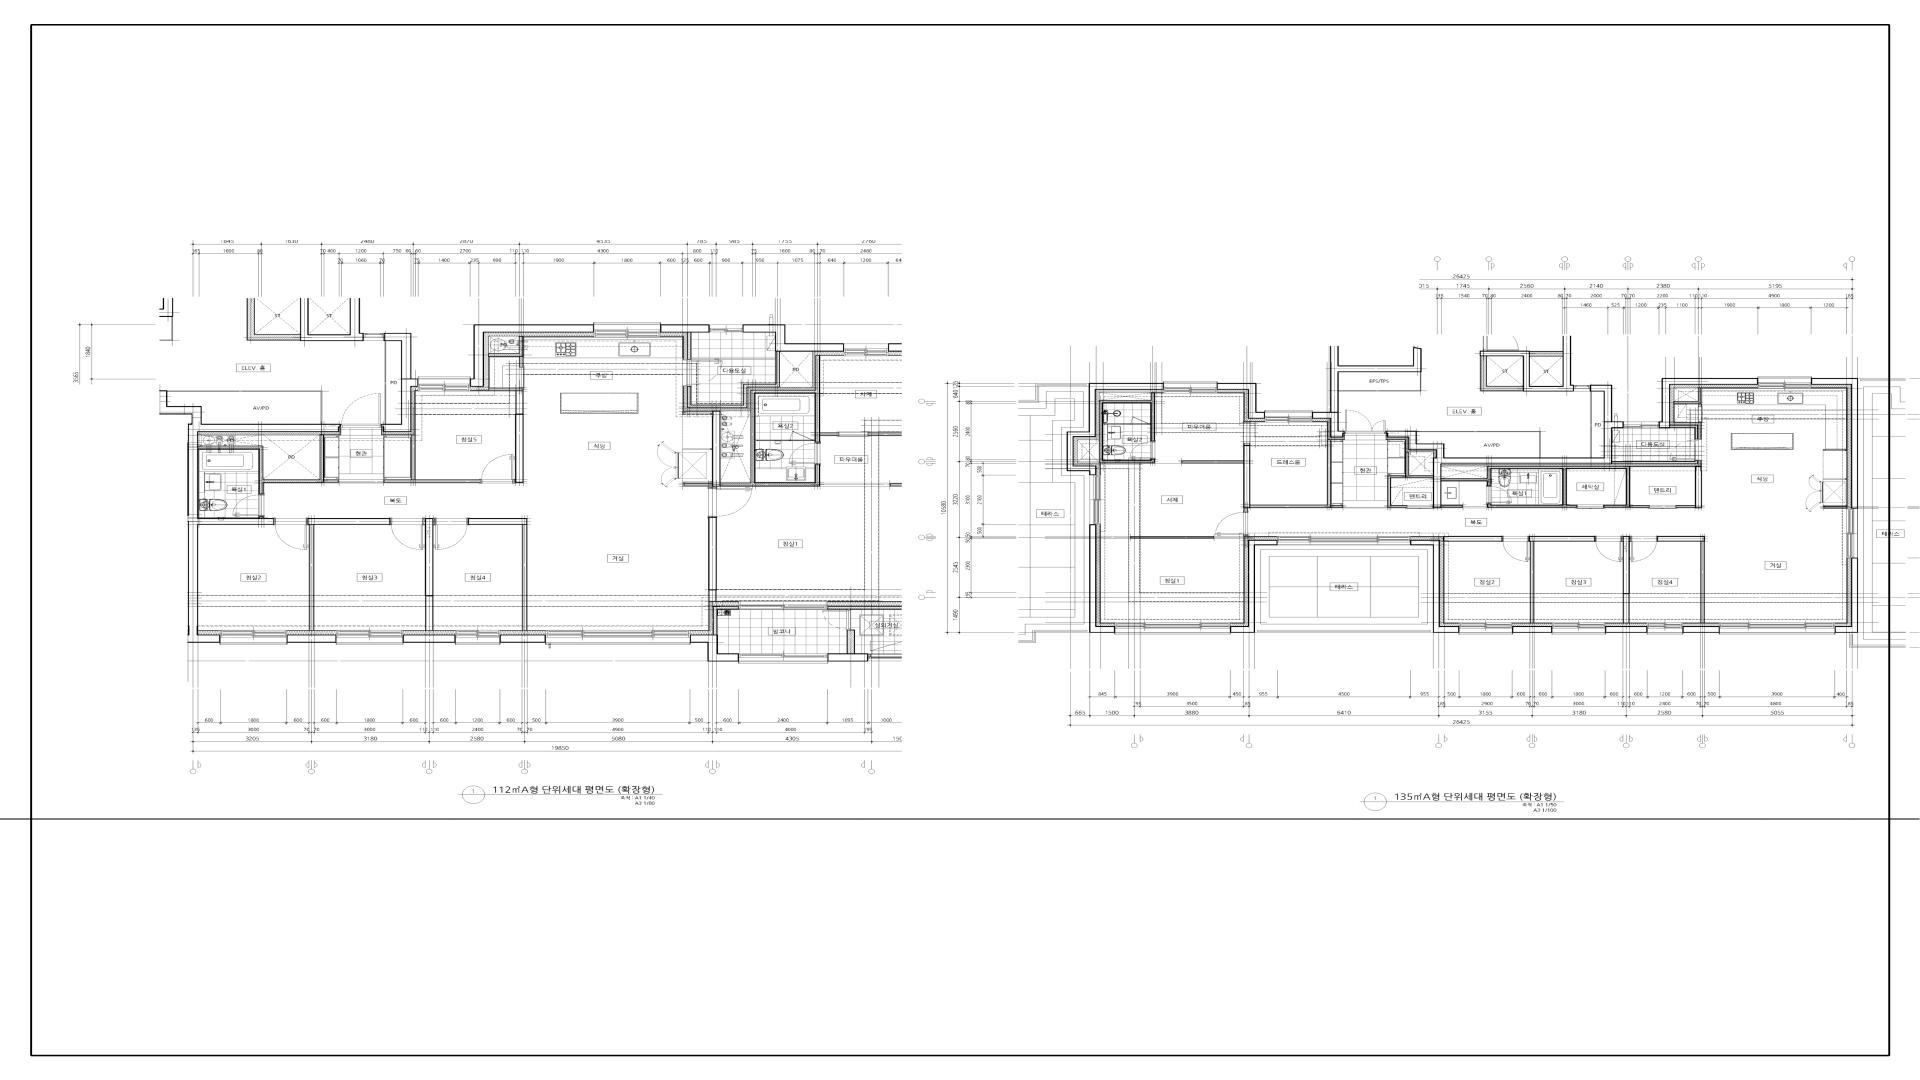door: (340, 393, 381, 427), (708, 488, 752, 517), (274, 518, 307, 550), (390, 518, 423, 550), (435, 518, 468, 550), (1345, 410, 1386, 434), (481, 454, 514, 483), (687, 360, 723, 386), (1216, 512, 1249, 535), (789, 442, 820, 464), (1502, 537, 1530, 562), (232, 495, 264, 516), (1631, 537, 1658, 562), (1596, 537, 1622, 562), (1669, 439, 1698, 460), (823, 611, 851, 630), (1130, 442, 1155, 459), (1487, 487, 1513, 504), (790, 431, 815, 440), (839, 431, 869, 436), (1131, 417, 1150, 425), (520, 365, 525, 389), (1577, 505, 1604, 509), (1650, 505, 1676, 509), (1407, 505, 1433, 509), (1698, 406, 1702, 422)
wall: (160, 390, 340, 644), (1386, 385, 1623, 508), (683, 355, 839, 488), (1182, 439, 1344, 512), (1312, 345, 1422, 438), (307, 518, 390, 630), (1067, 382, 1163, 475), (1441, 465, 1650, 508), (198, 434, 339, 495), (469, 324, 593, 386), (468, 518, 527, 630), (1812, 378, 1858, 509), (1530, 537, 1596, 622), (1480, 336, 1575, 392), (687, 352, 779, 409), (167, 390, 322, 423), (1659, 378, 1758, 429), (384, 435, 481, 483), (1411, 539, 1458, 633), (1230, 539, 1278, 633), (889, 343, 928, 454), (905, 483, 928, 662), (1658, 537, 1705, 624), (1098, 393, 1155, 463), (381, 332, 418, 433), (1416, 431, 1540, 458), (489, 388, 524, 483), (742, 324, 844, 352), (301, 298, 364, 342), (1089, 525, 1114, 633), (1387, 452, 1433, 508), (247, 298, 301, 340), (1217, 382, 1265, 418), (1836, 558, 1858, 633), (1338, 372, 1422, 392), (1481, 356, 1523, 392), (690, 634, 738, 662), (423, 518, 435, 630), (1676, 465, 1702, 508), (488, 336, 524, 367), (1622, 537, 1631, 622), (708, 517, 717, 601), (713, 607, 738, 634), (1673, 388, 1701, 406), (404, 634, 455, 644), (287, 634, 336, 644), (500, 634, 546, 644), (1671, 425, 1698, 439), (661, 324, 709, 332), (828, 607, 918, 611), (1613, 460, 1698, 464), (828, 654, 869, 662), (1443, 537, 1502, 542), (1606, 626, 1647, 633), (1513, 626, 1552, 633), (1683, 626, 1720, 633), (1130, 537, 1215, 539), (847, 630, 856, 654), (1530, 351, 1563, 356), (869, 433, 913, 436), (687, 332, 691, 360), (385, 342, 386, 423), (890, 483, 913, 487), (1590, 392, 1592, 458), (1824, 506, 1847, 509), (1441, 505, 1462, 508), (756, 439, 790, 440), (258, 516, 264, 518), (1244, 535, 1249, 537)
window: (546, 630, 690, 645), (1114, 622, 1230, 634), (1720, 622, 1836, 634), (1278, 537, 1411, 546), (593, 322, 661, 338), (336, 630, 404, 645), (220, 630, 287, 645), (738, 654, 828, 663), (738, 601, 828, 611), (418, 378, 469, 392), (455, 630, 500, 645), (1163, 381, 1217, 393), (1758, 377, 1812, 389), (1552, 622, 1606, 634), (1458, 622, 1513, 634), (1089, 475, 1101, 525), (844, 343, 889, 356), (1846, 509, 1858, 558), (1265, 410, 1312, 422), (911, 454, 928, 483), (1647, 622, 1684, 634), (869, 654, 905, 662), (709, 324, 742, 332), (1623, 422, 1659, 429), (364, 334, 384, 342), (1575, 385, 1590, 392)
